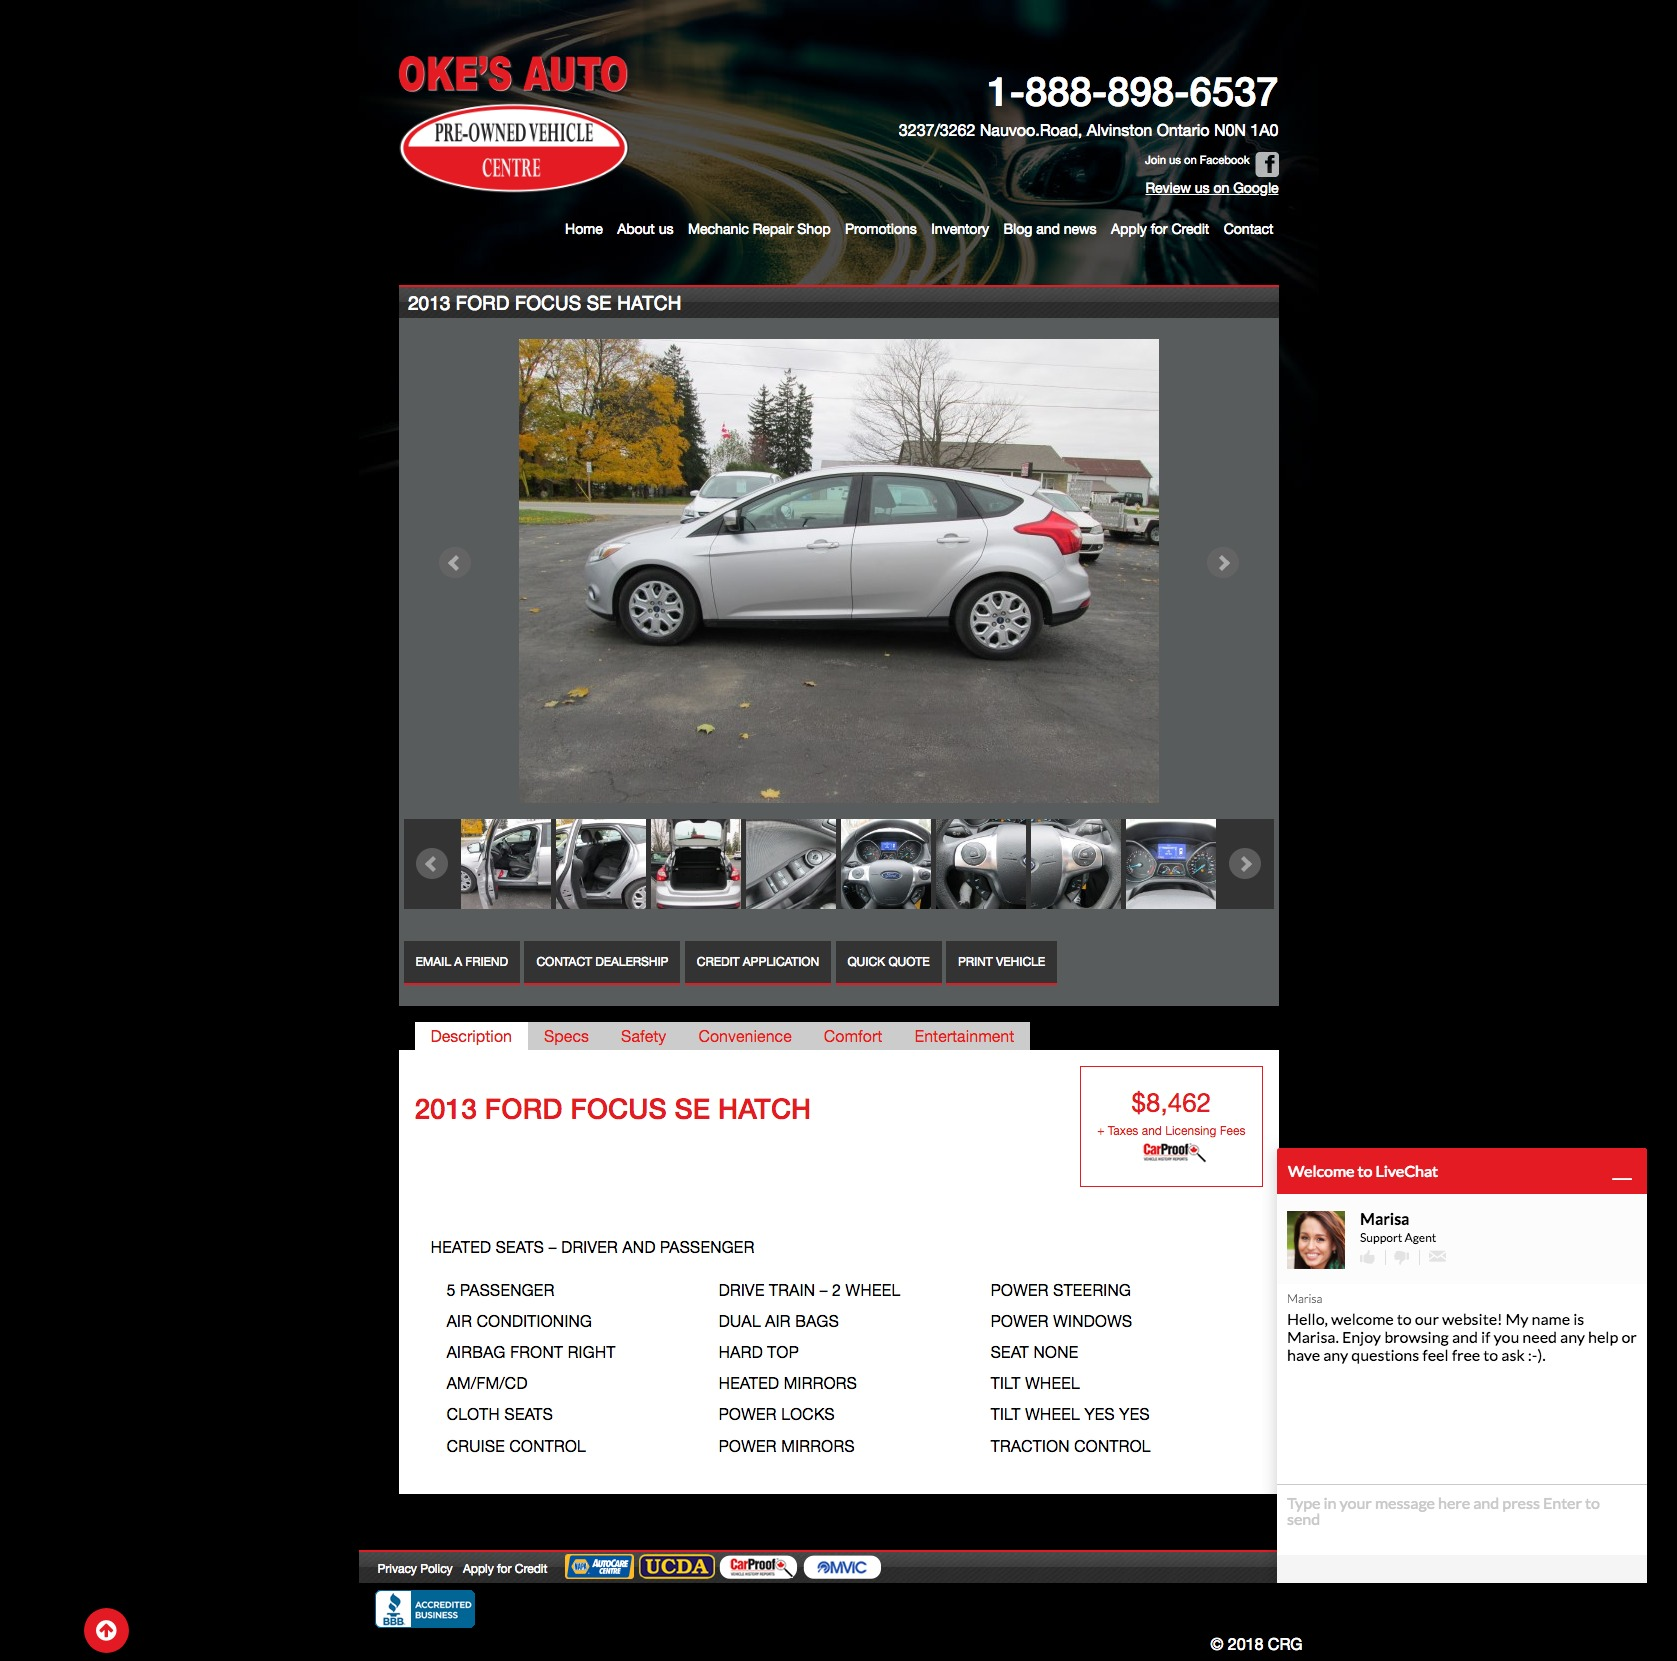car: (1228, 849, 1262, 881)
